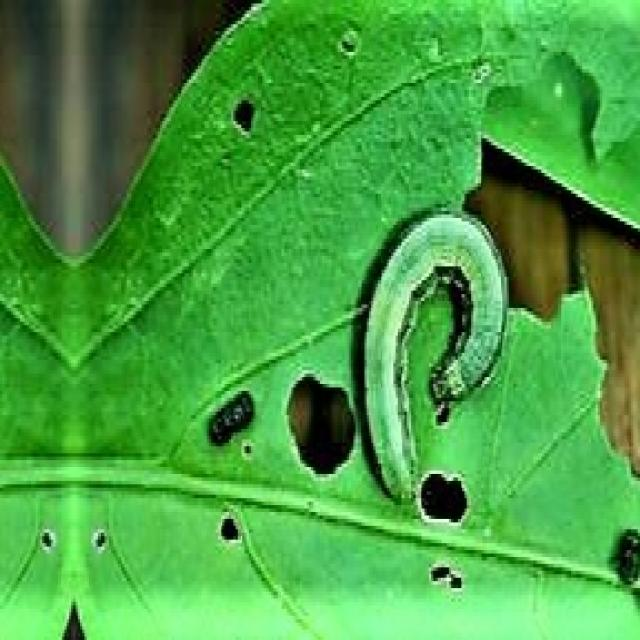Armyworm: (310, 190, 525, 532), (194, 385, 263, 467)
Armyworm_damage: (268, 340, 359, 485), (418, 442, 475, 546), (232, 94, 257, 141)
